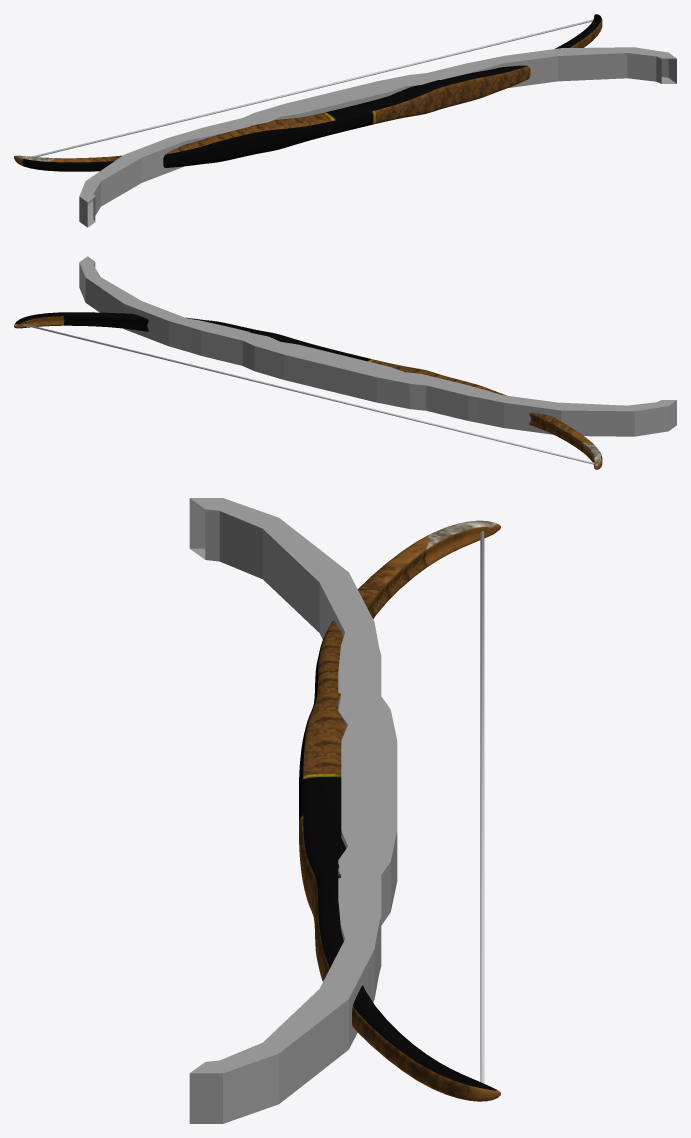
Rendered from bow.obj.
3 views of the same model, one above another, from view 1: azimuth 30°, elevation 25°; view 2: azimuth 150°, elevation 25°; view 3: azimuth 270°, elevation 25° (orthographic). The views are drawn at different scales.
Parts seen in each view (by area): view 1: bow_coll, bow, string; view 2: bow_coll, bow, string; view 3: bow_coll, bow, string.
Boxes of the visible parts, x1,y1,x2,y2 form: bow_coll: [79, 47, 676, 227]; bow: [14, 14, 602, 171]; string: [31, 19, 593, 156]; bow_coll: [79, 256, 676, 436]; bow: [14, 312, 602, 469]; string: [23, 323, 594, 464]; bow_coll: [189, 498, 397, 1123]; bow: [299, 520, 500, 1101]; string: [480, 531, 484, 1083].
Bounding box in the file's own units: 4.25 × 0.1746 × 0.9731.
